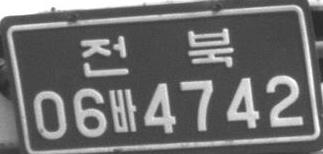0: (32, 89, 66, 139)
2: (265, 74, 304, 127)
4: (226, 76, 259, 128), (144, 82, 176, 132)
6: (72, 87, 108, 137)
7: (179, 79, 214, 131)
바: (108, 88, 137, 132)
전북_D: (79, 27, 235, 78)
